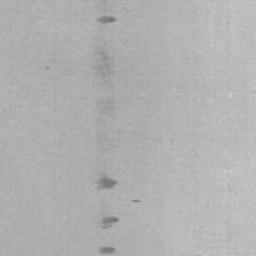Oil spot: (91, 38, 118, 156), (93, 172, 120, 193), (99, 215, 120, 230), (97, 244, 118, 256), (95, 14, 119, 24), (131, 198, 142, 205)
